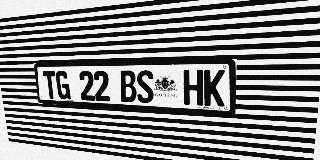2: (93, 71, 110, 101), (79, 71, 95, 101)
B: (119, 70, 137, 103)
G: (55, 71, 71, 100)
H: (183, 70, 203, 106)
K: (204, 70, 225, 107)
S: (136, 70, 154, 103)
T: (42, 71, 58, 99)
